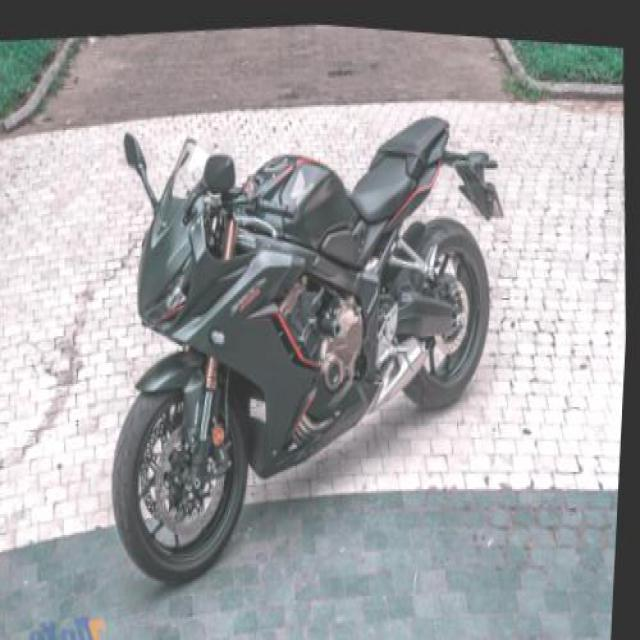CBR650R: (90, 76, 517, 617)
